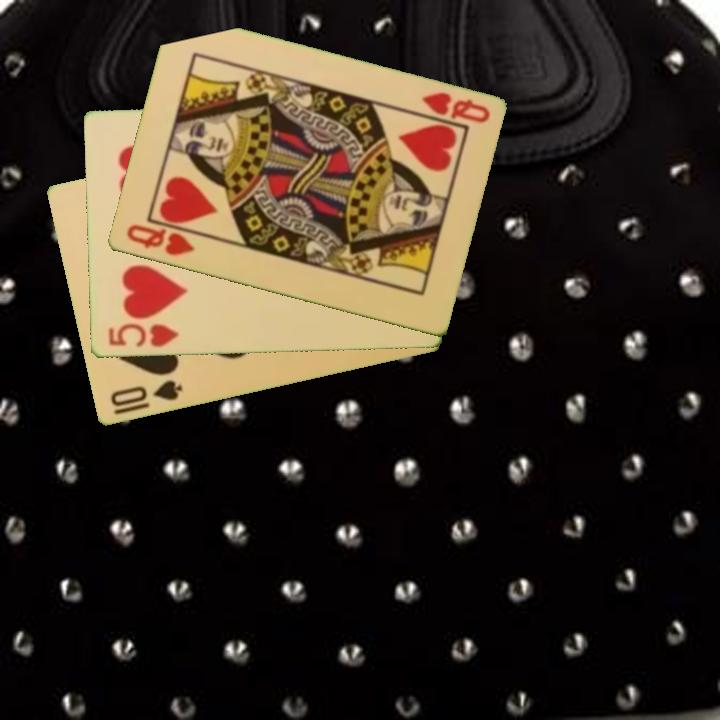10s: (106, 377, 185, 410)
5h: (105, 320, 182, 351)
Qh: (417, 89, 493, 127), (122, 221, 197, 259)
